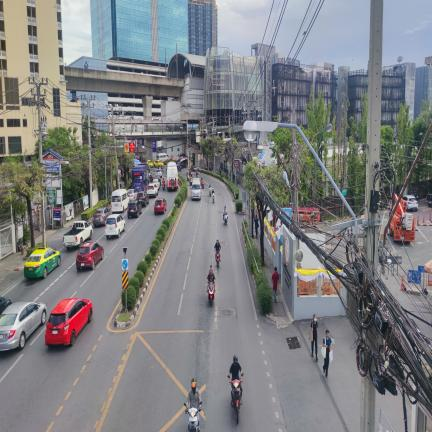bus: (132, 164, 149, 191)
car: (45, 298, 93, 346), (0, 302, 46, 351), (76, 242, 104, 271), (105, 215, 125, 239), (93, 207, 111, 226), (127, 200, 142, 219), (154, 197, 166, 214), (137, 191, 149, 207), (146, 183, 158, 197), (152, 178, 161, 194), (127, 189, 138, 202), (154, 169, 162, 179), (176, 165, 182, 172), (157, 194, 157, 194)
human: (229, 354, 242, 405), (186, 377, 201, 412), (322, 329, 332, 378), (310, 314, 318, 361), (272, 267, 279, 303), (214, 238, 221, 261), (254, 215, 259, 238), (196, 413, 200, 431), (231, 397, 233, 407), (232, 391, 232, 395)
motorbike: (230, 380, 241, 423), (184, 403, 199, 432), (207, 281, 215, 306), (215, 251, 220, 268), (224, 213, 228, 225), (212, 191, 215, 203), (209, 187, 212, 196), (201, 180, 204, 189), (189, 176, 192, 185), (162, 182, 165, 190), (228, 375, 230, 378), (241, 373, 243, 376), (200, 402, 202, 405), (200, 406, 201, 409)
pickup: (63, 221, 92, 249)
taxi: (24, 248, 61, 279), (154, 159, 164, 167), (147, 159, 153, 167)
truck: (390, 199, 416, 243), (167, 161, 178, 190), (394, 194, 398, 202)
van: (111, 189, 129, 213), (191, 178, 201, 200), (176, 157, 188, 168), (156, 153, 169, 162)
